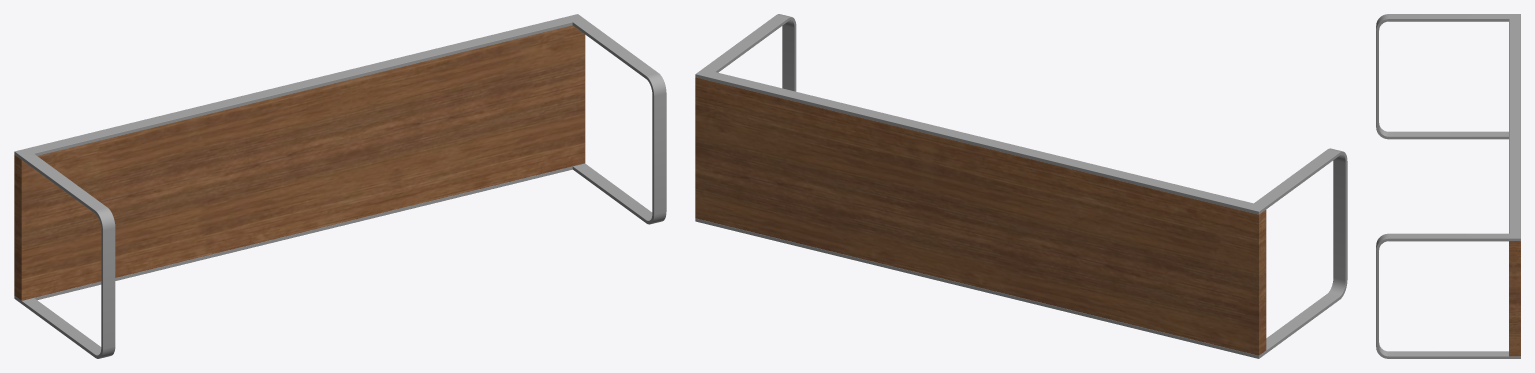
Rendered from bench.fbx.
The picture shows the model from 3 angles, left to right: view 1: azimuth 30°, elevation 25°; view 2: azimuth 150°, elevation 25°; view 3: azimuth 270°, elevation 25°; orthographic projection. The views are drawn at different scales.
Parts seen in each view (by area): view 1: ka_design_t3_bench_ob; view 2: ka_design_t3_bench_ob; view 3: ka_design_t3_bench_ob.
Part boxes in pixels (box(x1,y1,x2,y2)): ka_design_t3_bench_ob: box(14, 14, 666, 358); ka_design_t3_bench_ob: box(695, 14, 1347, 358); ka_design_t3_bench_ob: box(1376, 14, 1520, 358).
Bounding box in the file's own units: 0.018 × 0.0045 × 0.0049.
2 materials, 1 textured.
